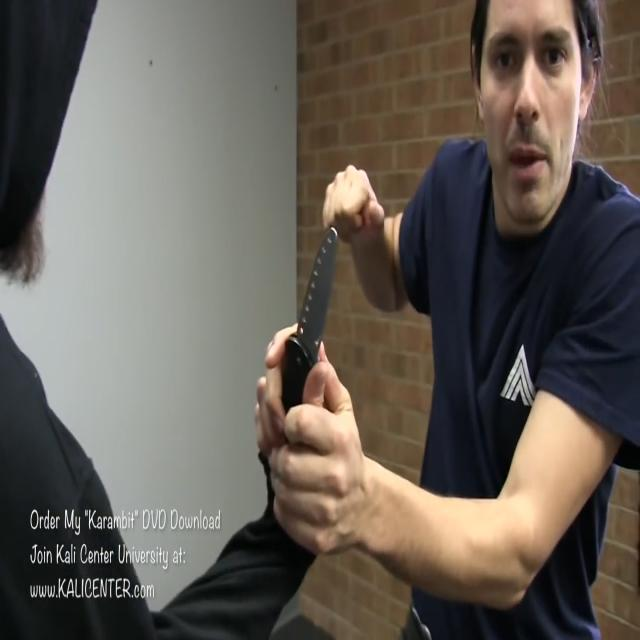knife: (281, 221, 342, 399)
